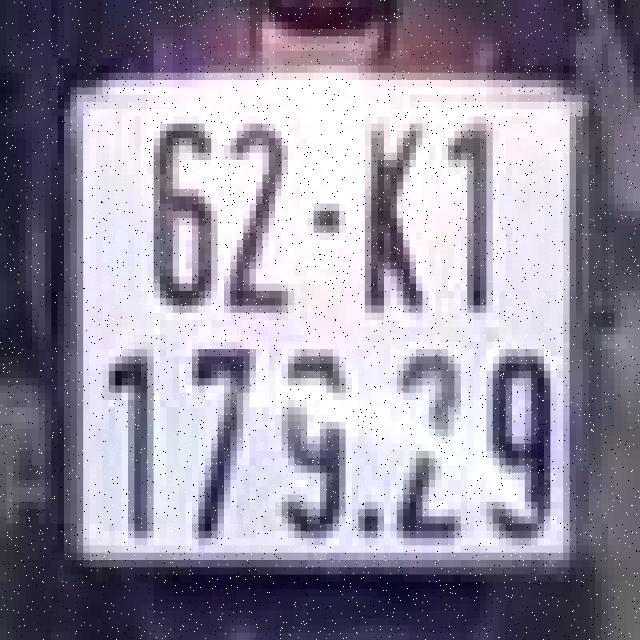1: (442, 106, 512, 338), (96, 324, 160, 564)
2: (381, 335, 464, 560), (221, 113, 291, 331)
6: (140, 105, 218, 302)
7: (173, 327, 262, 553)
9: (266, 331, 355, 549), (476, 338, 554, 549)
K: (349, 98, 438, 331)
